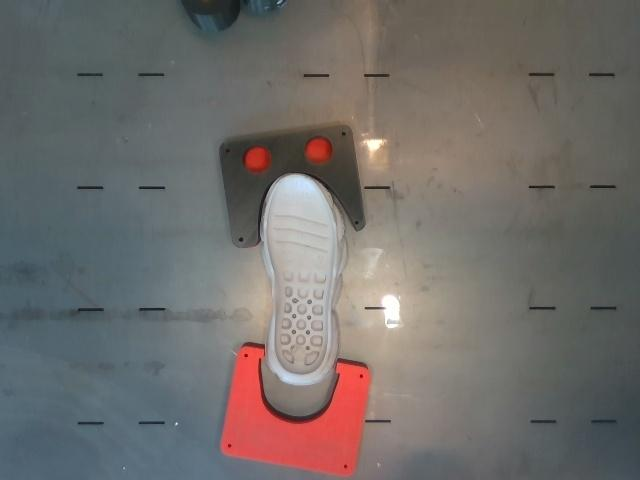shoes: (265, 174, 338, 380)
